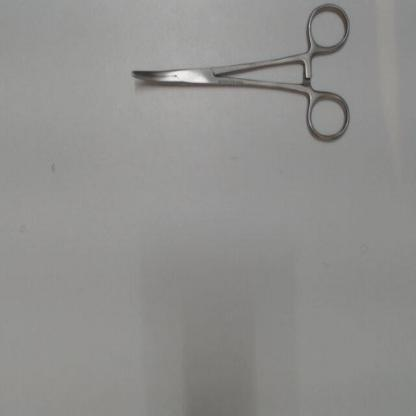Crile Artery Forceps: (123, 2, 359, 152)
